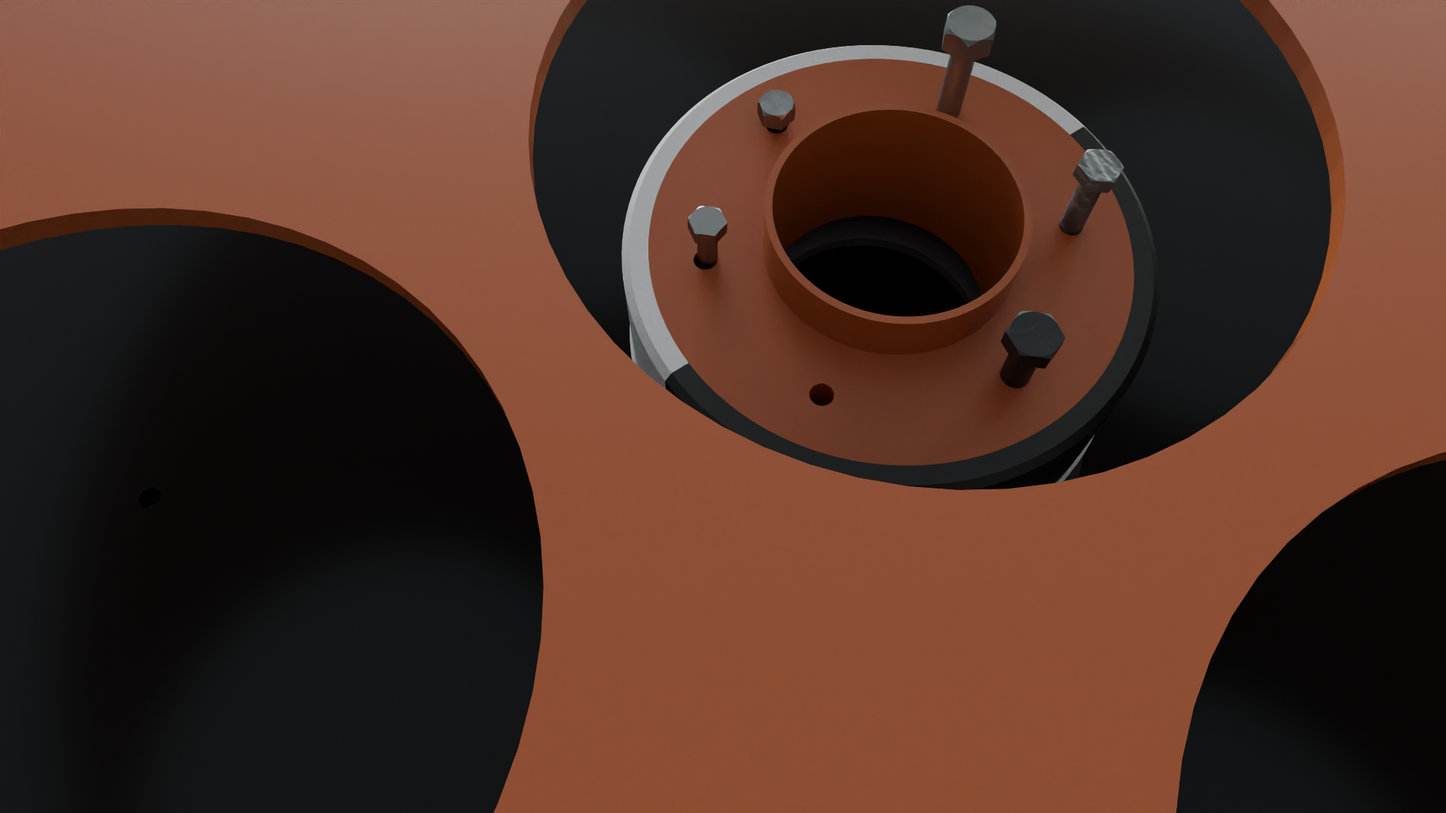bolt: (1005, 311, 1066, 359), (945, 5, 996, 48), (1078, 149, 1124, 183), (688, 206, 727, 236), (758, 90, 795, 120)
